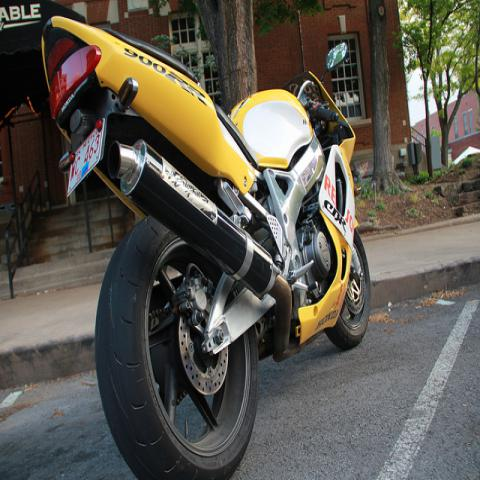motorcycle: (30, 11, 368, 473)
